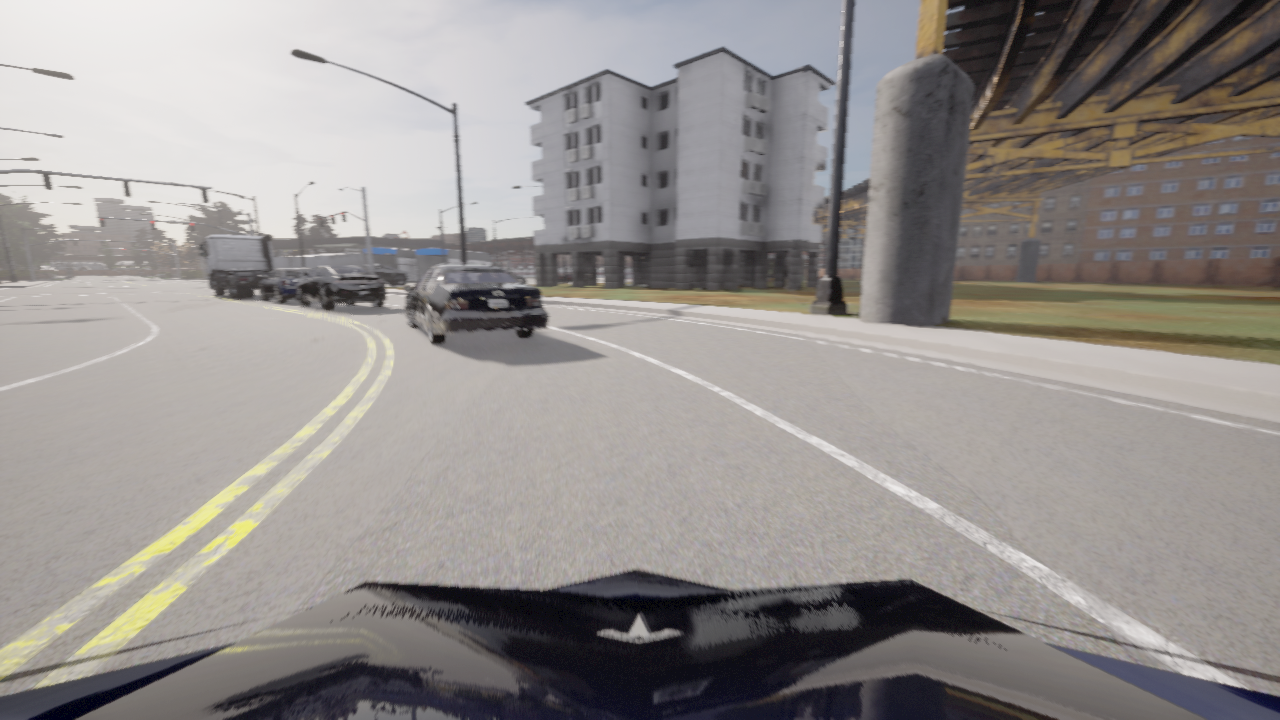cyclist: (0, 569, 1279, 719), (404, 264, 547, 344), (199, 234, 274, 298), (296, 265, 385, 310), (260, 268, 312, 303), (360, 264, 408, 285), (510, 272, 527, 283), (559, 272, 571, 281)
